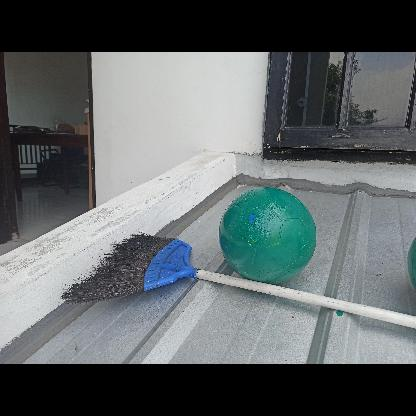green_ball: (221, 184, 320, 284)
